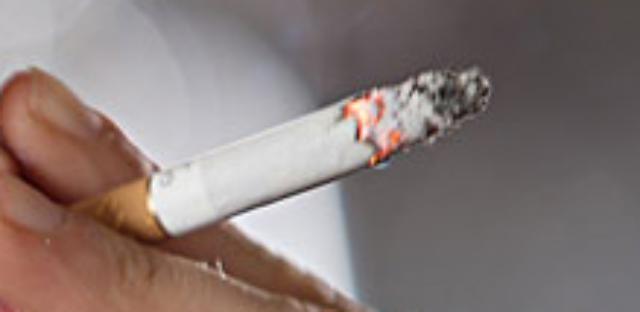Cigarette: (1, 64, 496, 272)
